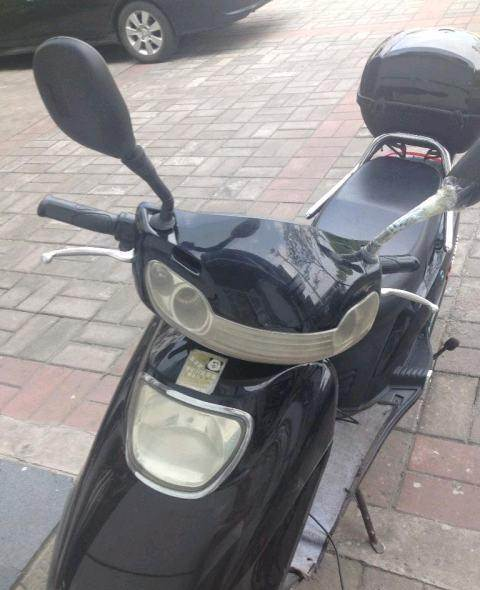电动车: (10, 27, 480, 585)
